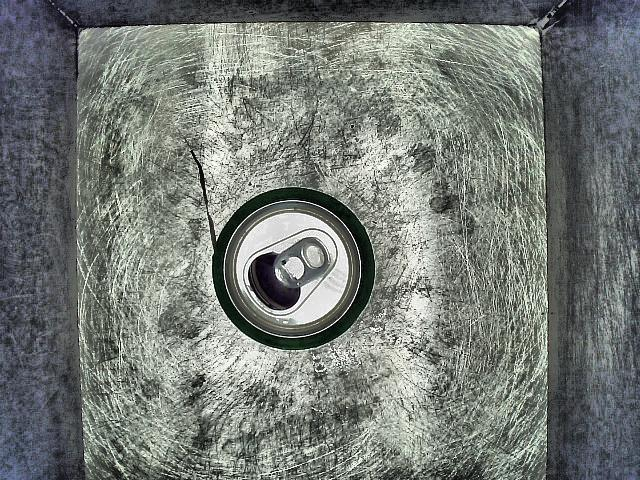Bottles: (172, 143, 389, 391)
